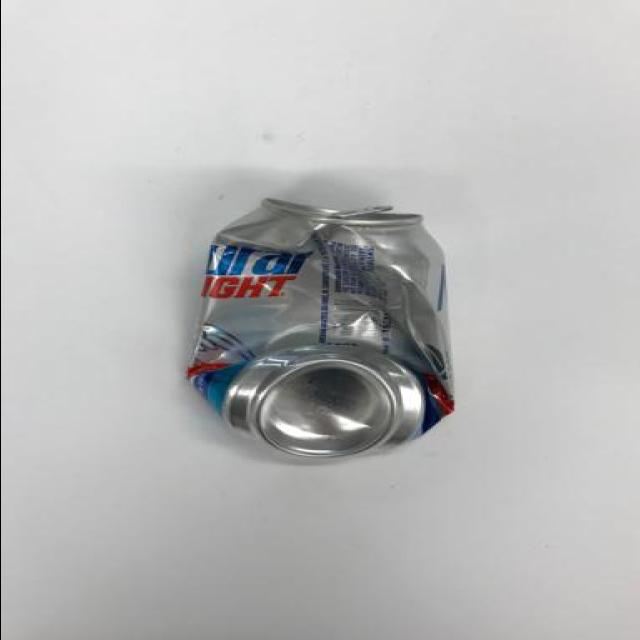litter: (166, 185, 466, 483)
